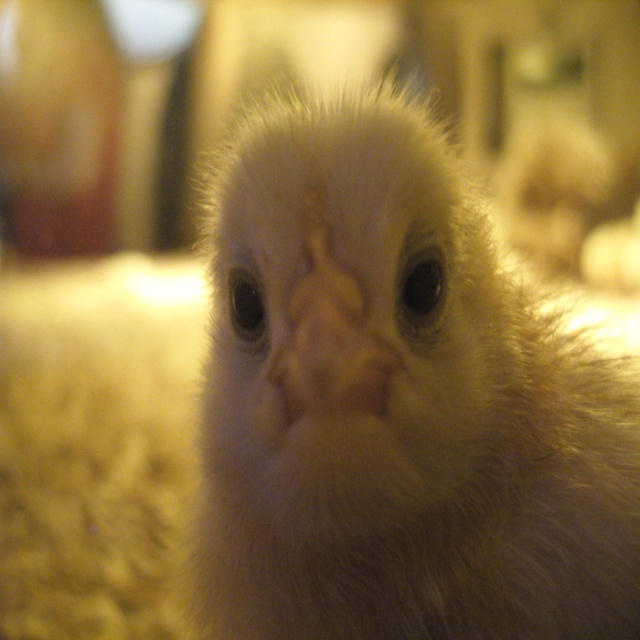Chicken: (139, 70, 632, 640)
